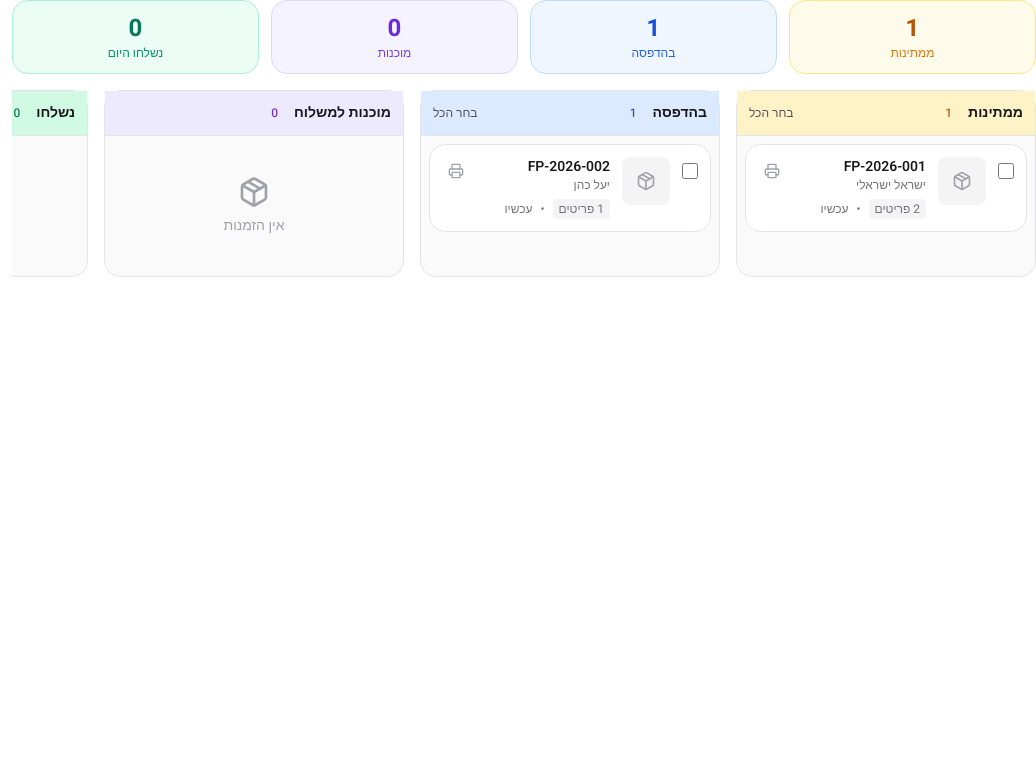
Test: FulfillmentBoard › Selection › should show bulk toolbar when items selected
// Select an order
Click the checkbox named "בחר הזמנה FP-2026-001" at coordinates (1006, 171), box [998, 163, 1014, 179]
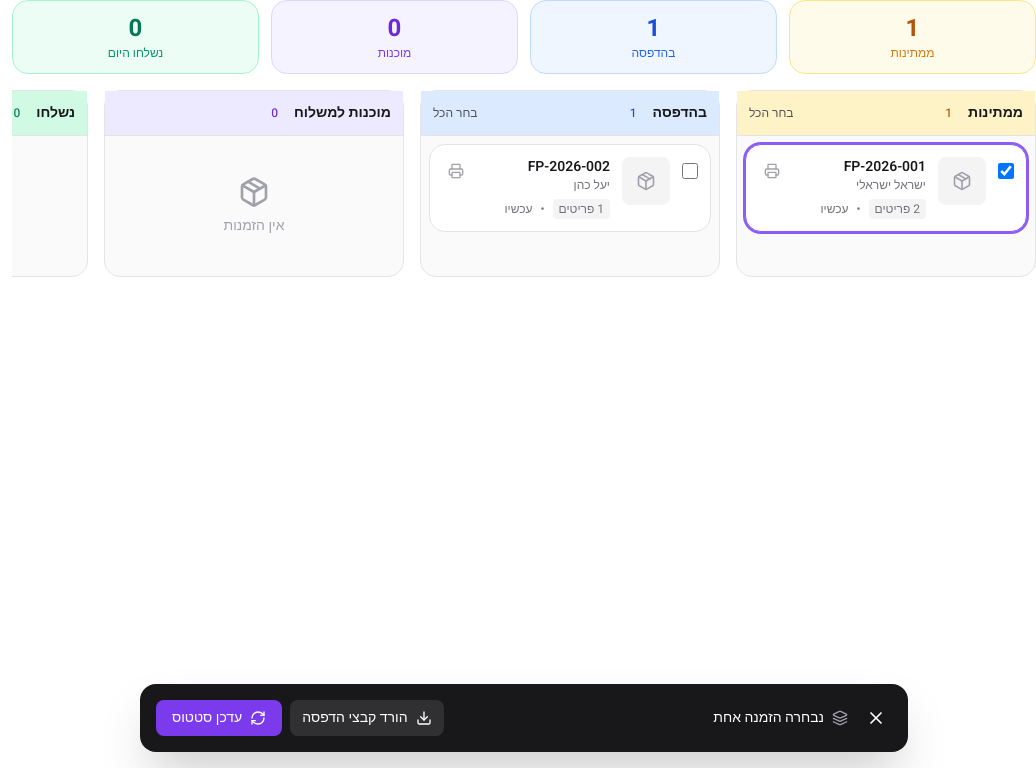
Now the element with test id "bulk-toolbar" is shown, box [140, 684, 908, 752]
